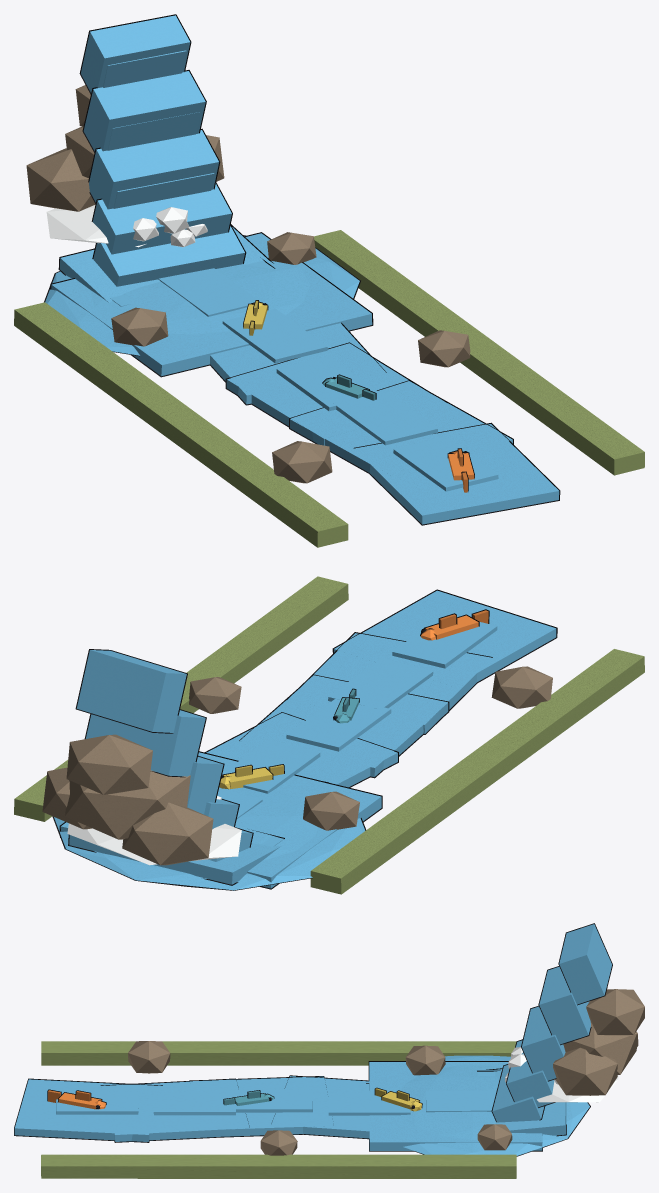
Rendered from bethlehem_stream_fish_alive_v3.glb.
The picture shows the model from 3 angles, top to bottom: view 1: azimuth 30°, elevation 25°; view 2: azimuth 150°, elevation 25°; view 3: azimuth 270°, elevation 25°; orthographic projection. The views are drawn at different scales.
Parts seen in each view (by area): view 1: Waterfall_Main, Stream_Main, Stream_Pool, Bank_0, Bank_1, WF_Rock_1, Stream_Ripple_1, Stream_Ripple_3, Stream_Ripple_4, Stream_Ripple_0, Stream_Ripple_2, Stream_Join (+11 smaller); view 2: Stream_Main, Bank_0, Waterfall_Main, Stream_Pool, Bank_1, WF_Rock_0, WF_Rock_3, WF_Rock_1, Stream_Ripple_1, Stream_Ripple_2, Stream_Join, Stream_Ripple_0 (+13 smaller); view 3: Stream_Main, Bank_1, Stream_Pool, Waterfall_Main, Bank_0, WF_Rock_2, WF_Rock_3, Stream_Ripple_1, Stream_Ripple_3, WF_Rock_0, Stream_Ripple_2, Stream_Ripple_4 (+13 smaller).
Boxes of the visible parts, box(x1,y1,x2,y2) form: Waterfall_Main: box(81, 15, 244, 286); Stream_Main: box(210, 323, 559, 524); Stream_Pool: box(45, 233, 372, 376); Bank_0: box(14, 302, 348, 547); Bank_1: box(314, 230, 644, 475); WF_Rock_1: box(26, 148, 95, 211); Stream_Ripple_1: box(333, 390, 437, 445); Stream_Ripple_3: box(222, 308, 327, 363); Stream_Ripple_4: box(158, 268, 259, 316); Stream_Ripple_0: box(393, 436, 498, 491); Stream_Ripple_2: box(276, 356, 377, 411); Stream_Join: box(60, 227, 270, 302); Stream_Main: box(206, 590, 556, 787); Bank_0: box(310, 649, 644, 894); Waterfall_Main: box(76, 650, 252, 861); Stream_Pool: box(54, 752, 381, 890); Bank_1: box(14, 576, 348, 821); WF_Rock_0: box(65, 770, 190, 839); WF_Rock_3: box(66, 734, 152, 794); WF_Rock_1: box(122, 802, 213, 865); Stream_Ripple_1: box(328, 658, 433, 709); Stream_Ripple_2: box(286, 699, 391, 751); Stream_Join: box(69, 835, 281, 884); Stream_Ripple_0: box(392, 613, 497, 668); Stream_Main: box(14, 1076, 369, 1141); Bank_1: box(41, 1154, 516, 1178); Stream_Pool: box(369, 1055, 589, 1155); Waterfall_Main: box(492, 924, 611, 1122); Bank_0: box(41, 1041, 516, 1065); WF_Rock_2: box(553, 1047, 617, 1095); WF_Rock_3: box(586, 989, 644, 1035); Stream_Ripple_1: box(153, 1092, 235, 1115); Stream_Ripple_3: box(328, 1092, 410, 1115); WF_Rock_0: box(563, 1022, 636, 1074); Stream_Ripple_2: box(230, 1089, 312, 1112); Stream_Ripple_4: box(426, 1090, 496, 1112).
Size of the model in its own units: 3.43 by 2.29 by 7.3.
Materials: 17 (17 with a texture image).
